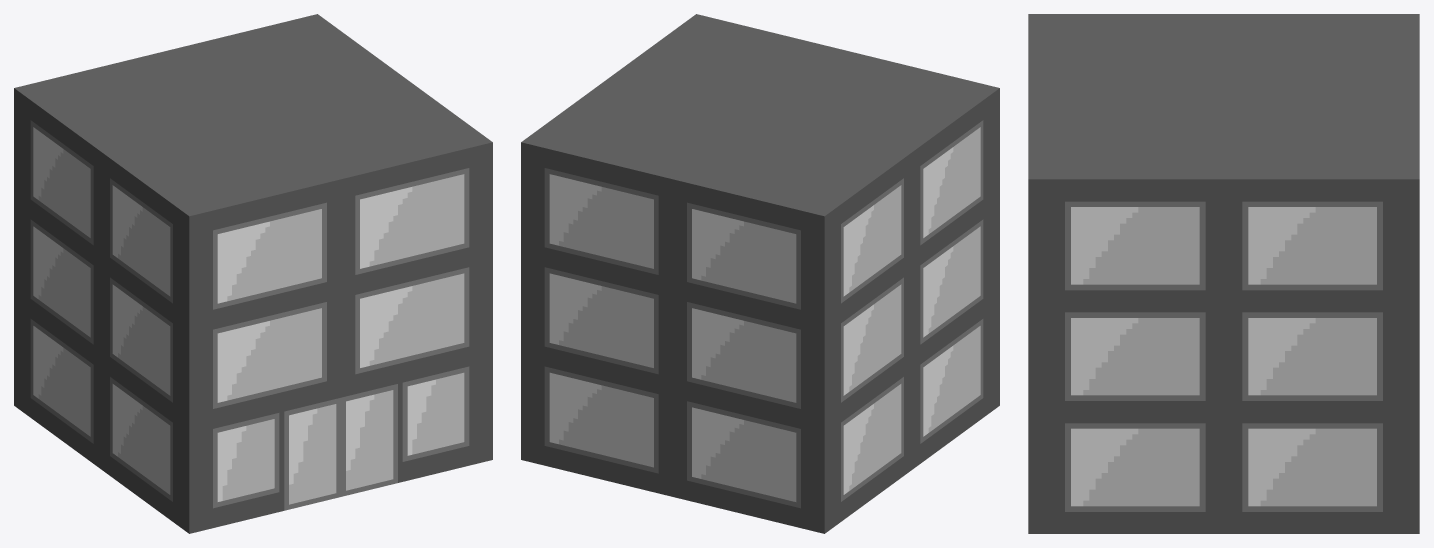
Rendered from Building_C.obj.
3 renders of one model, left to right at view 1: azimuth 30°, elevation 25°; view 2: azimuth 150°, elevation 25°; view 3: azimuth 270°, elevation 25°, orthographic. The views are drawn at different scales.
Size of the model in its own units: 6.4 by 6.4 by 6.4.
Materials: 1 (1 with a texture image).
